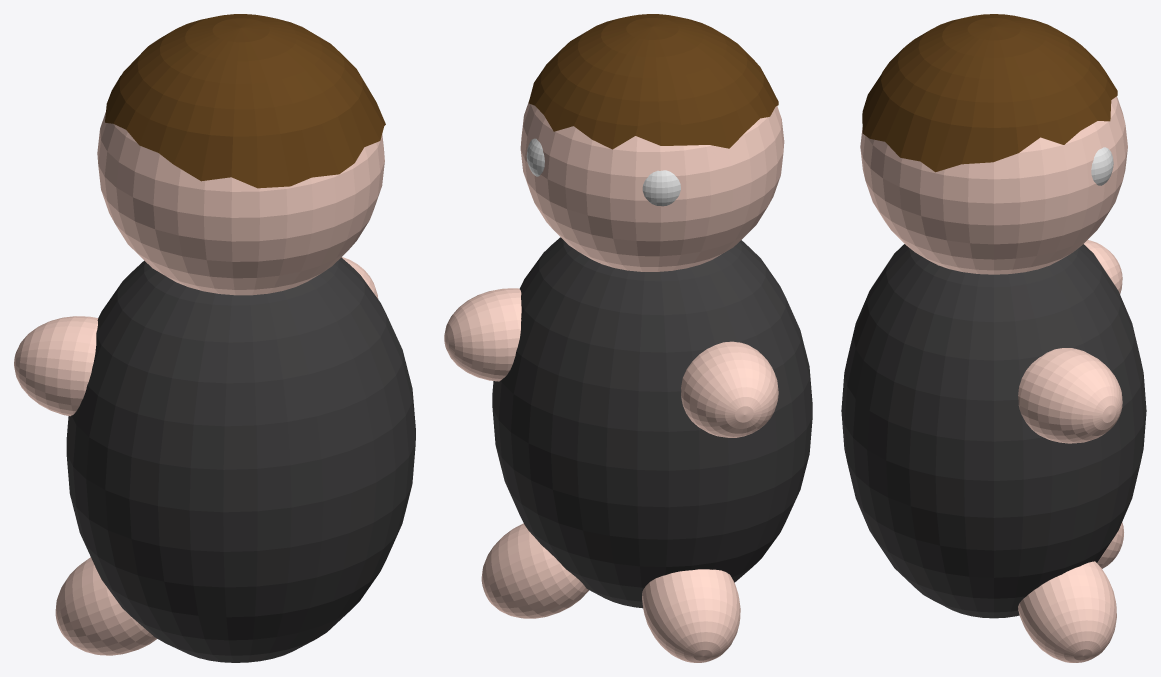
Rendered from hostageboi.fbx.
3 renders of one model, left to right at view 1: azimuth 30°, elevation 25°; view 2: azimuth 150°, elevation 25°; view 3: azimuth 270°, elevation 25°, orthographic. The views are drawn at different scales.
Parts seen in each view (by area): view 1: Sphere.003, Hair, Sphere, Sphere.005, Sphere.006; view 2: Sphere.003, Sphere, Hair, Sphere.006, Sphere.005, Sphere.007, Sphere.004, Sphere.001; view 3: Sphere.003, Hair, Sphere, Sphere.004, Sphere.007, Sphere.005, Sphere.002, Sphere.006.
Part boxes in pixels (x1,y1,x2,y2): Sphere.003: (66, 257, 415, 662); Hair: (105, 14, 385, 188); Sphere: (97, 112, 384, 295); Sphere.005: (14, 316, 97, 416); Sphere.006: (55, 557, 157, 655); Sphere.003: (492, 237, 812, 608); Sphere: (520, 101, 784, 271); Hair: (528, 14, 778, 149); Sphere.006: (642, 569, 740, 662); Sphere.005: (681, 341, 778, 437); Sphere.007: (481, 523, 589, 618); Sphere.004: (444, 288, 521, 381); Sphere.001: (642, 170, 680, 206); Sphere.003: (841, 244, 1146, 618); Hair: (862, 14, 1117, 172); Sphere: (860, 96, 1127, 274); Sphere.004: (1018, 348, 1122, 443); Sphere.007: (1018, 561, 1116, 662); Sphere.005: (1084, 240, 1122, 293); Sphere.002: (1091, 147, 1113, 185); Sphere.006: (1097, 522, 1123, 568).
Size of the model in its own units: 152 by 263 by 124.
